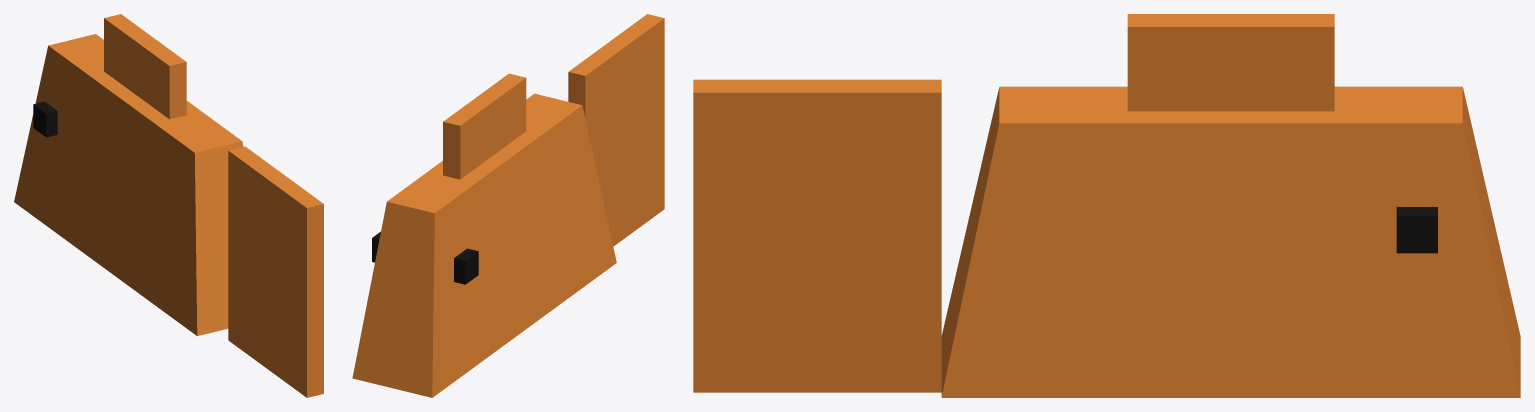
Rendered from fish.glb.
The picture shows the model from 3 angles, left to right: view 1: azimuth 30°, elevation 25°; view 2: azimuth 150°, elevation 25°; view 3: azimuth 270°, elevation 25°; orthographic projection. The views are drawn at different scales.
Visible parts, largest first — view 1: fish_Body, fish_Tail; view 2: fish_Body, fish_Tail; view 3: fish_Body, fish_Tail.
Boxes of the visible parts, bbox=[...] form: fish_Body: bbox=[14, 14, 243, 336]; fish_Tail: bbox=[228, 146, 323, 397]; fish_Body: bbox=[352, 73, 616, 397]; fish_Tail: bbox=[568, 14, 664, 246]; fish_Body: bbox=[941, 14, 1520, 397]; fish_Tail: bbox=[693, 79, 941, 392].
Bounding box in the file's own units: 0.082 × 0.195 × 0.4.
